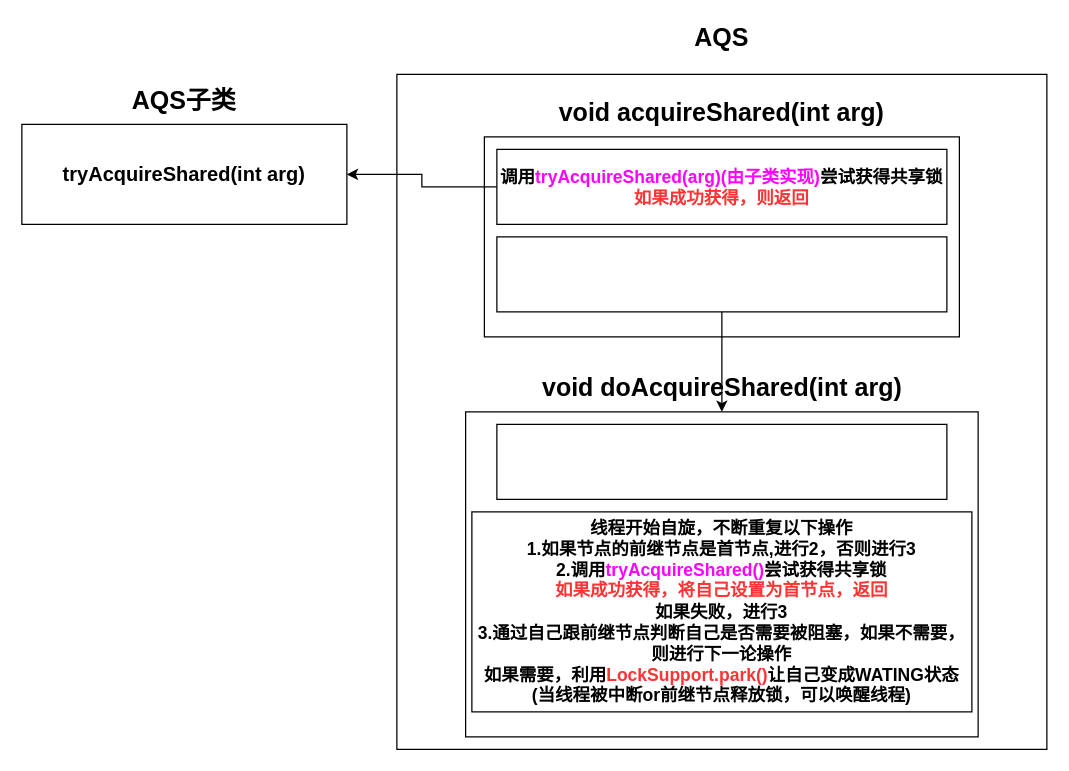
Image size: 1069x771. Some labels were removed from this diagram. The centre of each missing label's shape, as x and y in pixels:
"如果tryAcquireShared()获得锁失败，那么调用doAcquireShared(arg)" goes at point (721, 274).
"将当前线程封装为Node,放入同步队列" goes at point (721, 461).
